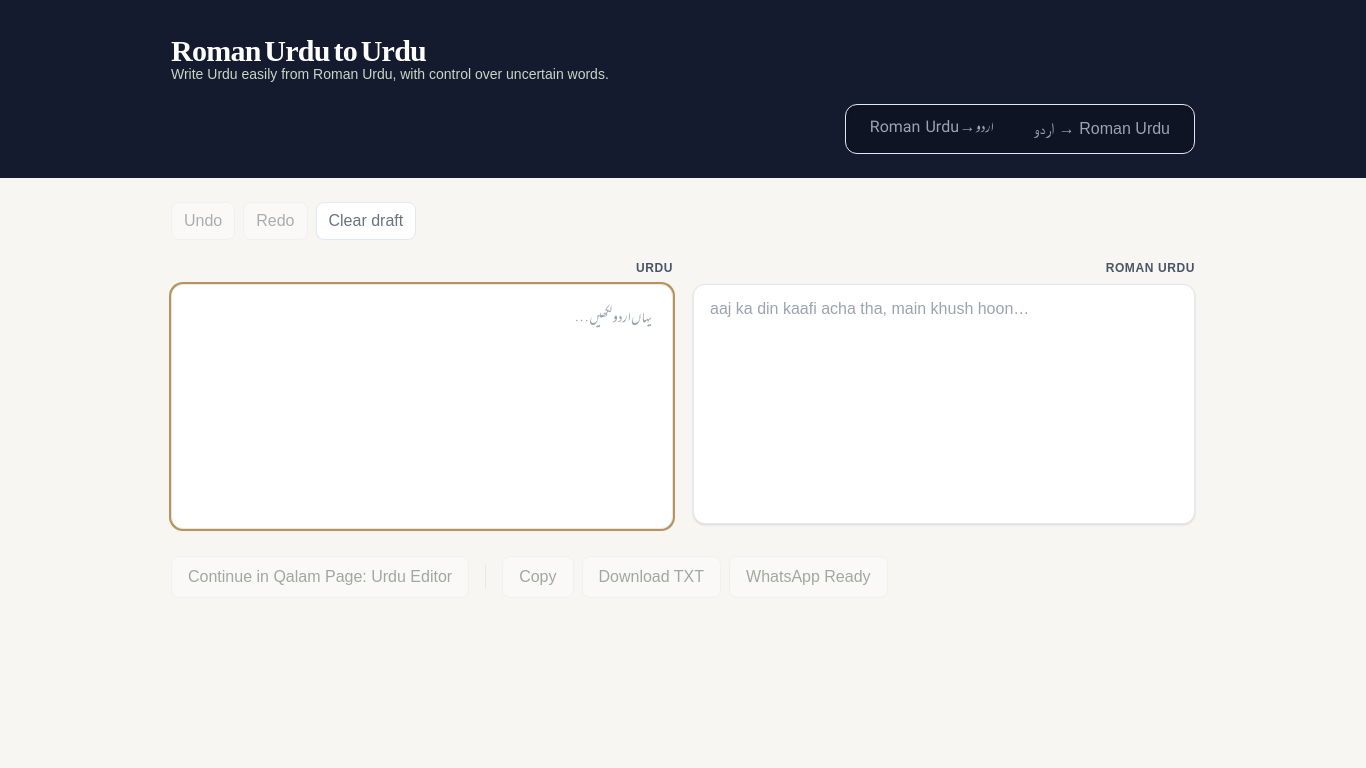
Scenario: 9. confirmation appears when Urdu draft non-empty and different
Earlier steps of the test are not shown.
In the text box with id "urdu-input": (422, 407) [171,284,673,529], type "یہ پرانا متن ہے"
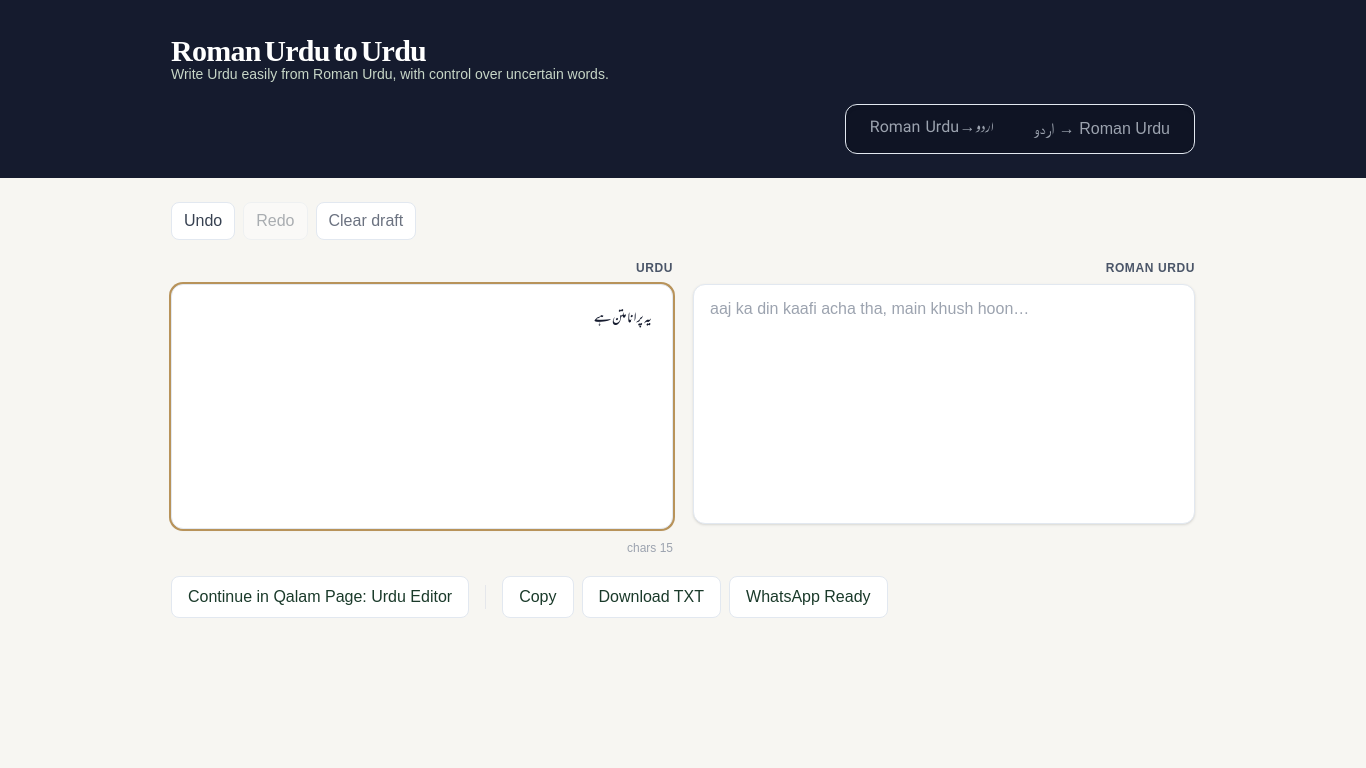
Click the tab "Roman Urdu → اردو": (1102, 129) [1014,109,1190,149]
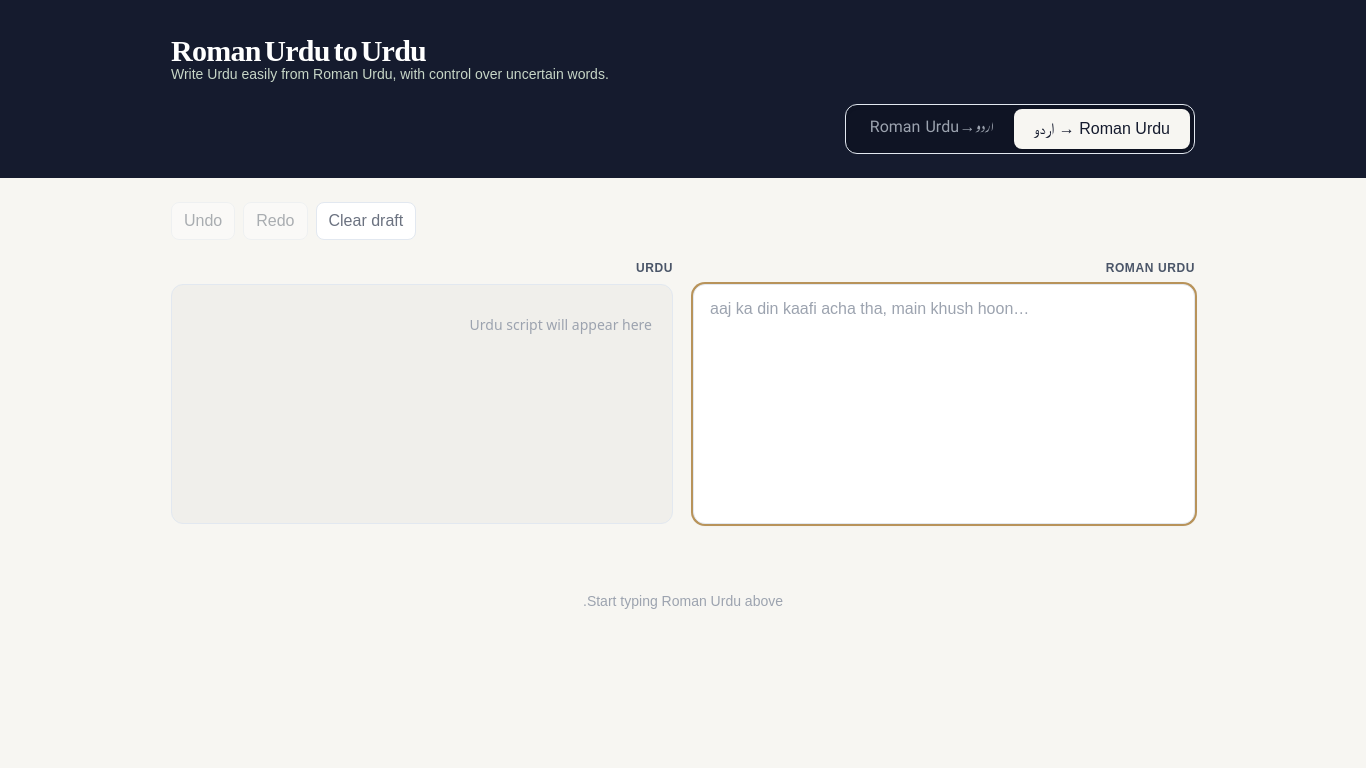
In the text box with id "roman-input": (944, 404) [693,284,1195,524], type "aaj theek hai"
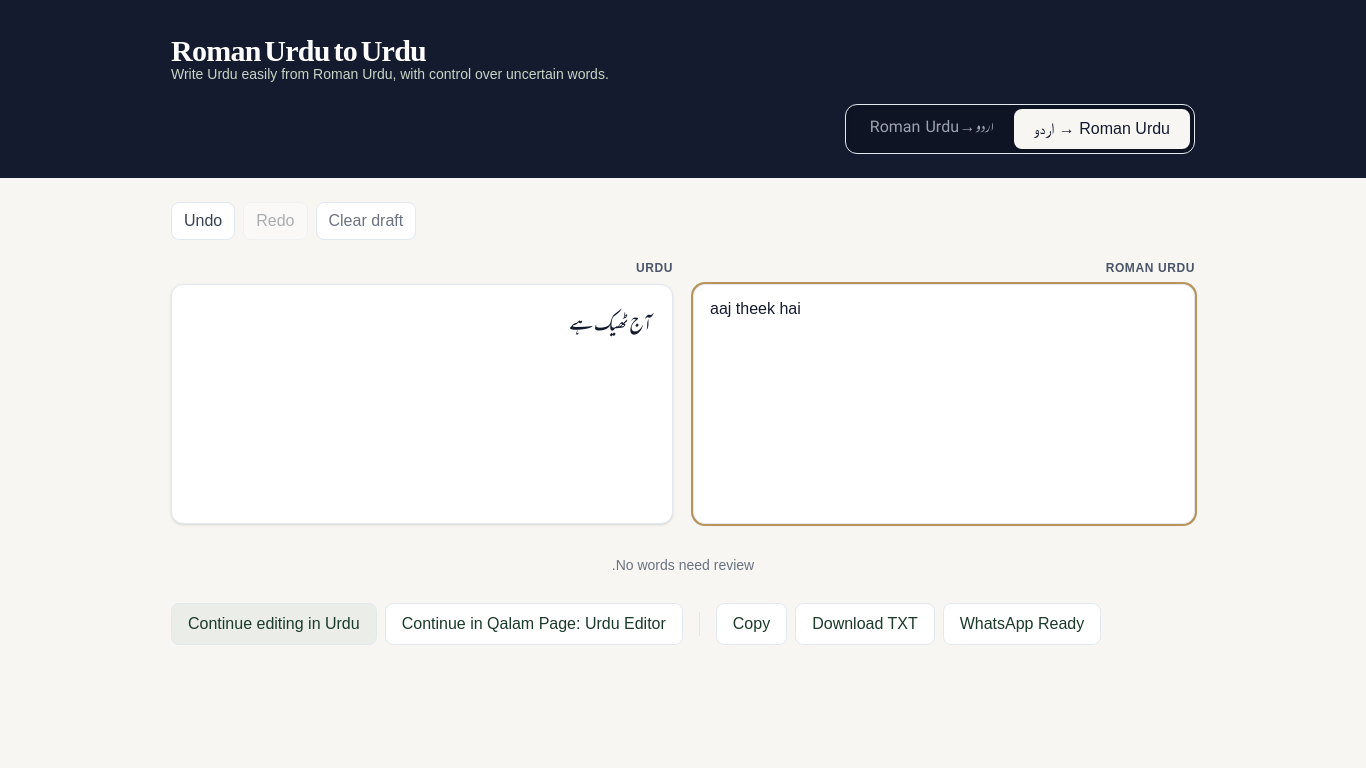
Click the button with test id "writer-continue-editing": (274, 624) [171,603,377,645]
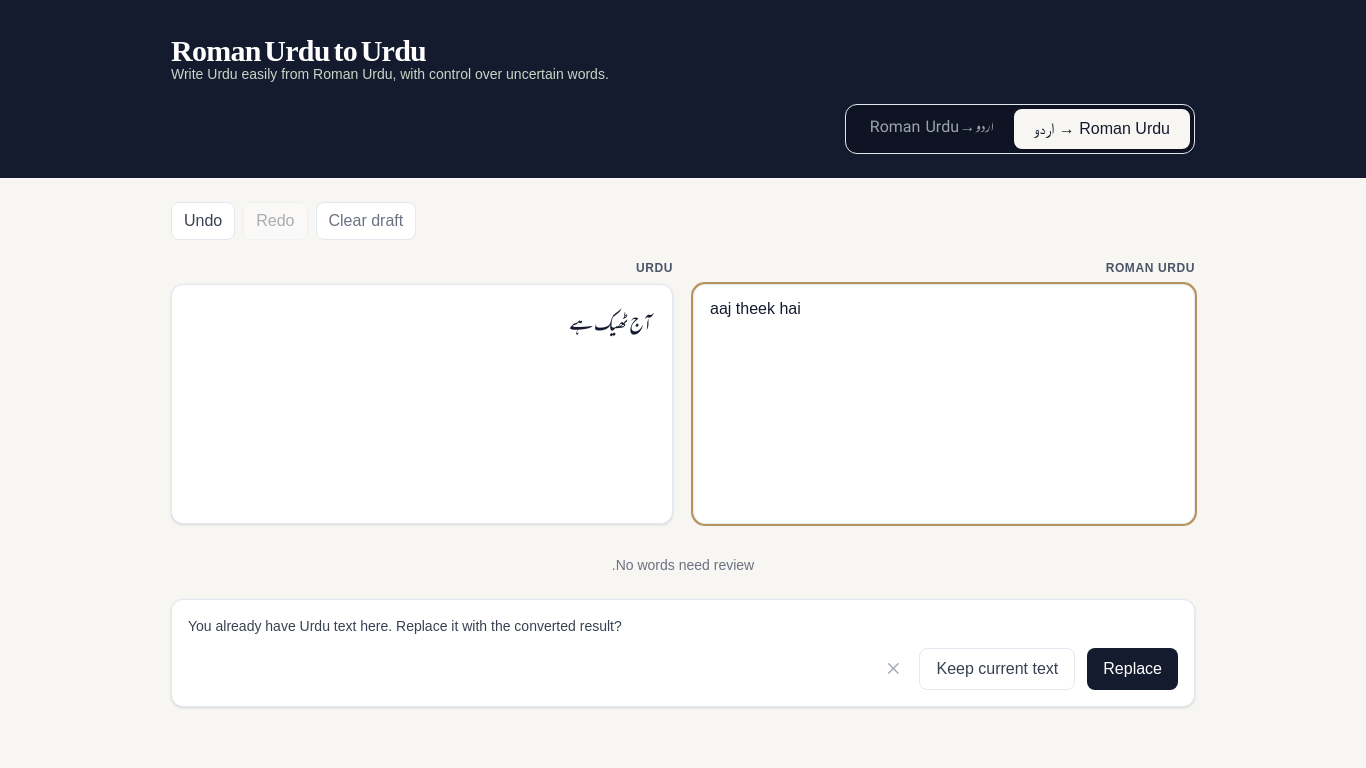
Expected: the dialog is shown, [171,599,1195,707]
